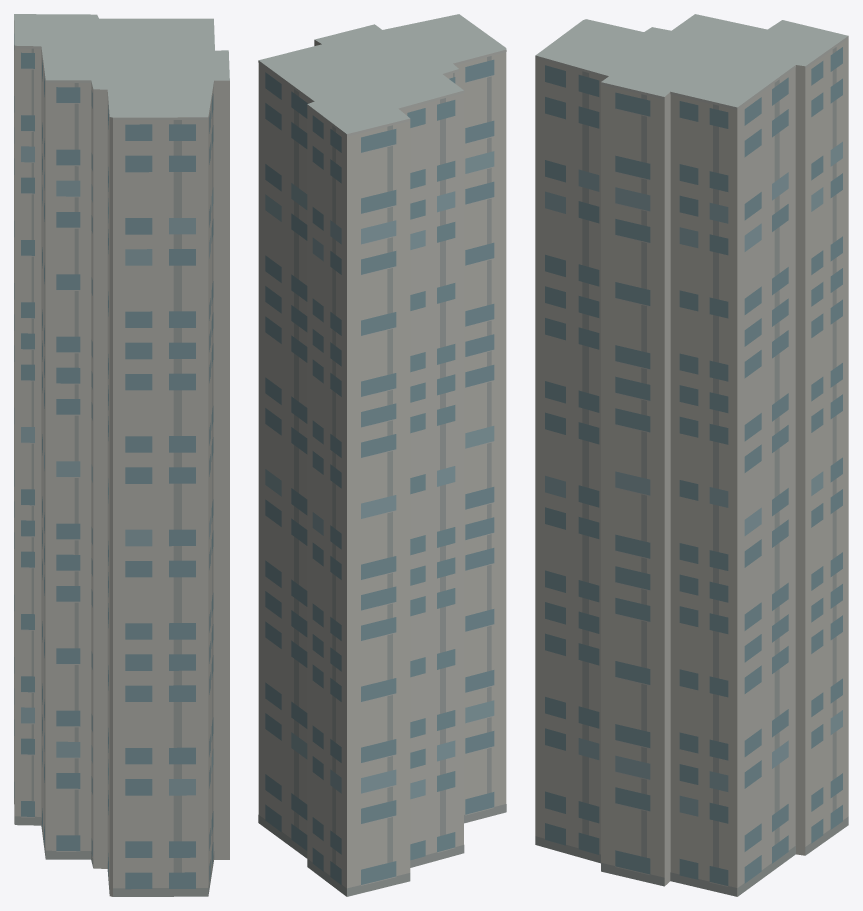
File: survey-upis-32566732.glb
3 views of the same model, side by side, from view 1: azimuth 30°, elevation 25°; view 2: azimuth 150°, elevation 25°; view 3: azimuth 270°, elevation 25° (orthographic). The views are drawn at different scales.
Visible parts, largest first — view 1: survey-upis-32566732.tmp; view 2: survey-upis-32566732.tmp; view 3: survey-upis-32566732.tmp.
Boxes of the visible parts, x1,y1,x2,y2 form: survey-upis-32566732.tmp: (14, 14, 229, 896); survey-upis-32566732.tmp: (258, 14, 506, 896); survey-upis-32566732.tmp: (535, 14, 848, 896).
Bounding box in the file's own units: 19.38 × 76.25 × 27.41.
